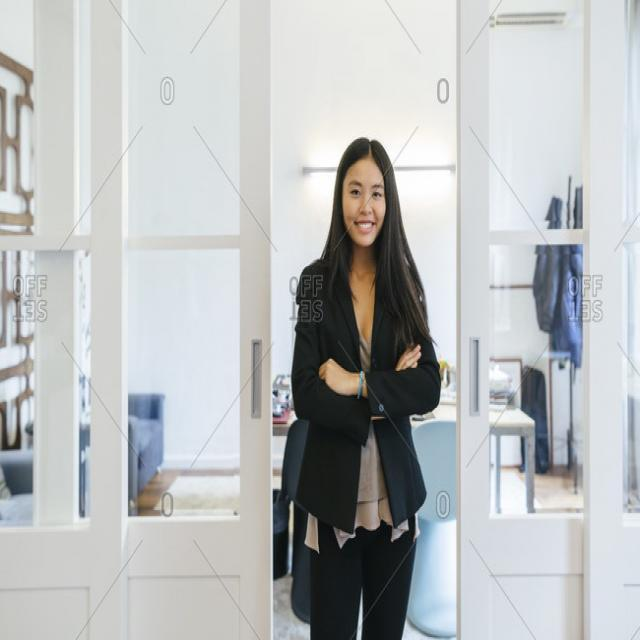No_Goggles: (342, 178, 385, 204)
No_Helmet: (345, 130, 393, 170)
